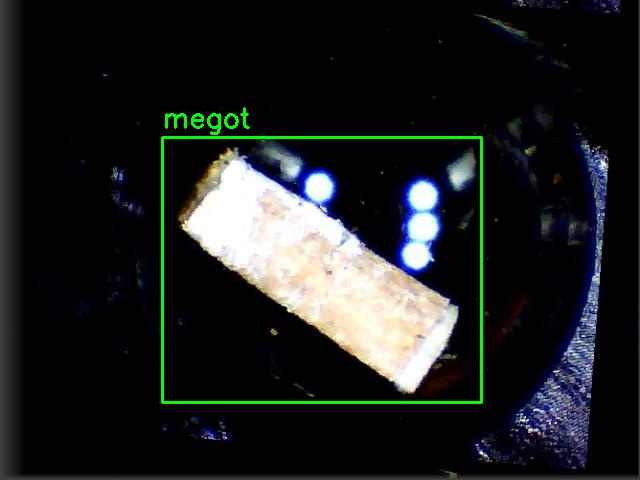megot: (162, 137, 481, 402)
